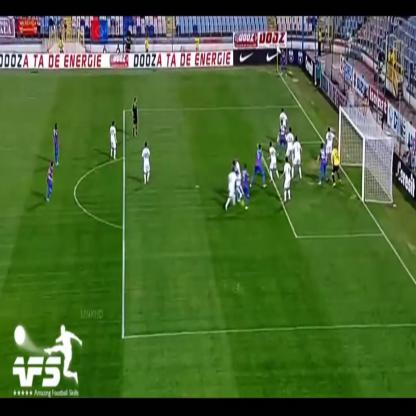corner kick: (262, 22, 304, 101)
